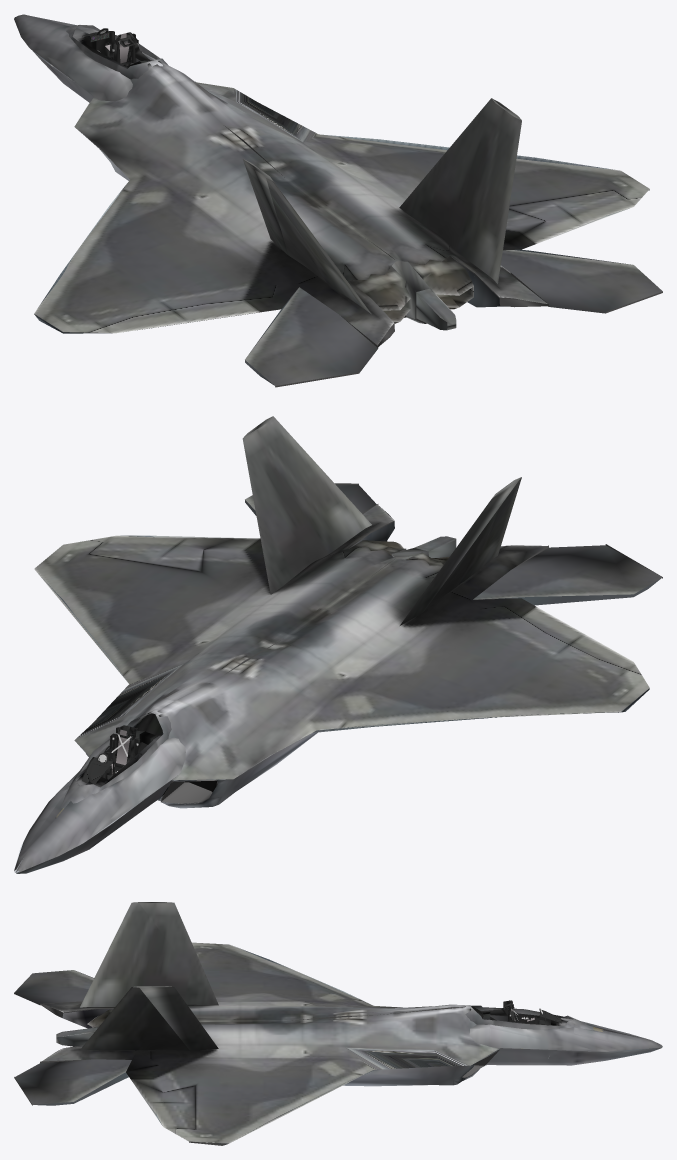
3 views of the same model, one above another, from view 1: azimuth 30°, elevation 25°; view 2: azimuth 150°, elevation 25°; view 3: azimuth 270°, elevation 25° (orthographic). The views are drawn at different scales.
Parts seen in each view (by area): view 1: body|f22_top_U, body|f22_top_D, body|f22_bottom_R., body|Grey, body|f22_bottom_L, body|Darker_paint.001; view 2: body|f22_top_U, body|f22_top_D, body|f22_bottom_L, body|Grey, body|f22_bottom_L_darker, body|Darker_paint.001, body|f22_bottom_R.; view 3: body|f22_top_D, body|f22_top_U, body|f22_bottom_R., body|f22_bottom_R_darker, body|f22_bottom_L, body|Grey, body|Darker_paint.001.
Part boxes in pixels (x1=…): body|f22_top_U: x1=14, y1=14, x2=662, y2=385; body|f22_top_D: x1=17, y1=14, x2=649, y2=330; body|f22_bottom_R.: x1=195, y1=81, x2=648, y2=307; body|Grey: x1=49, y1=126, x2=662, y2=387; body|f22_bottom_L: x1=34, y1=130, x2=625, y2=384; body|Darker_paint.001: x1=82, y1=28, x2=150, y2=66; body|f22_top_U: x1=16, y1=416, x2=662, y2=872; body|f22_top_D: x1=14, y1=416, x2=456, y2=870; body|f22_bottom_L: x1=157, y1=500, x2=662, y2=808; body|Grey: x1=86, y1=483, x2=662, y2=804; body|f22_bottom_L_darker: x1=16, y1=779, x2=172, y2=873; body|Darker_paint.001: x1=82, y1=725, x2=141, y2=784; body|f22_bottom_R.: x1=39, y1=521, x2=394, y2=756; body|f22_top_D: x1=42, y1=902, x2=661, y2=1143; body|f22_top_U: x1=14, y1=902, x2=661, y2=1104; body|f22_bottom_R.: x1=75, y1=1046, x2=499, y2=1143; body|f22_bottom_R_darker: x1=486, y1=1047, x2=662, y2=1065; body|f22_bottom_L: x1=34, y1=947, x2=402, y2=1105; body|Grey: x1=14, y1=975, x2=499, y2=1145; body|Darker_paint.001: x1=480, y1=1000, x2=562, y2=1025.
Size of the model in its own units: 13.73 by 4.04 by 18.91.
16 materials, 8 textured.
